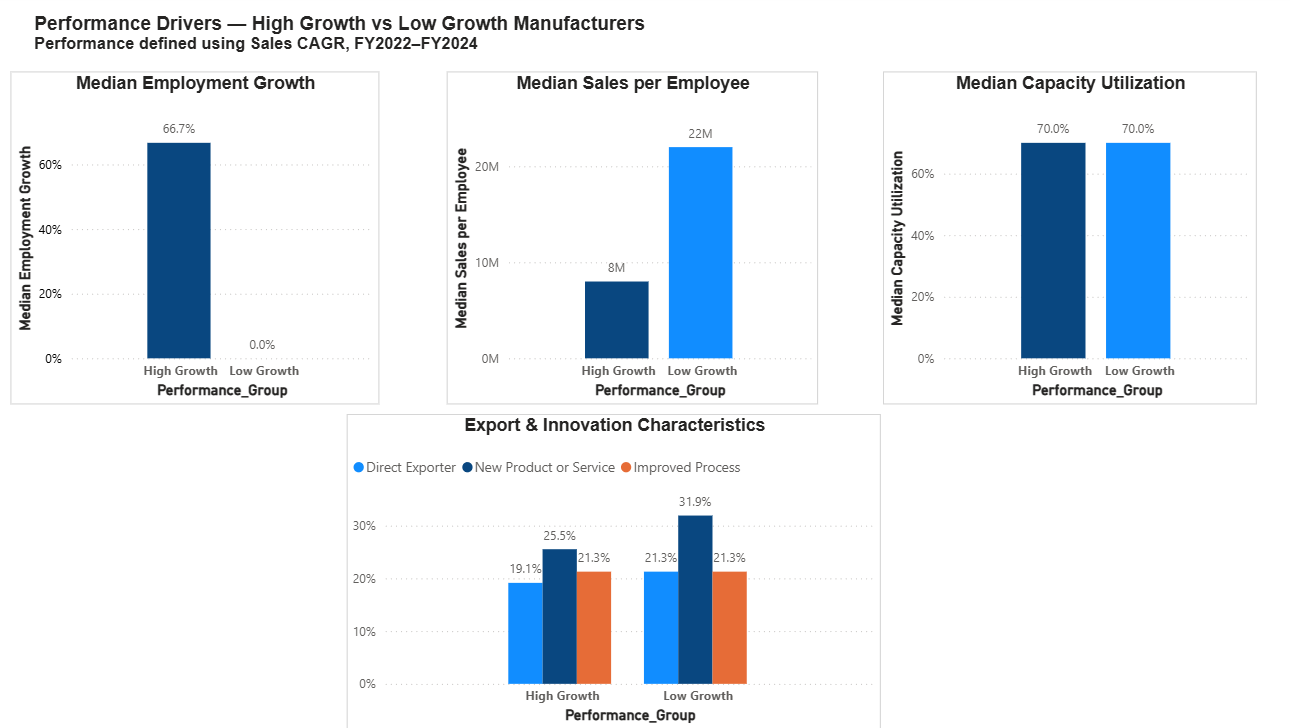

Layout of this report page (visuals, bound fields, positions):
{"tool":"powerbi","page":{"name":"Performance Drivers","canvas":[1280,720],"ordinal":1},"visuals":[{"type":"slicer","fields":{"Values":["Manufacturing.Region"]},"box":[747.1,11.7,160.8,63.6],"z":0,"group":"g1"},{"type":"textbox","box":[31.1,13,620,62.3],"z":0},{"type":"slicer","fields":{"Values":["Manufacturing.Size_Category"]},"box":[906.7,11.8,149.2,63.6],"z":1000,"group":"g1"},{"type":"clusteredColumnChart","title":"Median Employment Growth","fields":{"Category":["Manufacturing.Performance_Group"],"Y":["Measure Table.Median Employment Growth"]},"box":[11.7,75.2,360.6,325.6],"z":1000},{"type":"slicer","fields":{"Values":["Manufacturing.Manufacturing_Subsector"]},"box":[1048.9,12.1,214.6,62.7],"z":2000,"group":"g1"},{"type":"clusteredColumnChart","title":"Median Sales per Employee","fields":{"Category":["Manufacturing.Performance_Group"],"Y":["Measure Table.Median Sales per Employee"]},"box":[438.4,75.2,363.2,325.6],"z":2000},{"type":"clusteredColumnChart","title":"Median Capacity Utilization","fields":{"Category":["Manufacturing.Performance_Group"],"Y":["Measure Table.Median Capacity Utilization"]},"box":[865.2,75.2,365.8,325.6],"z":3000},{"type":"clusteredColumnChart","title":"Export & Innovation Characteristics","fields":{"Category":["Manufacturing.Performance_Group"],"Y":["Measure Table.Direct Exporter Rate","Measure Table.New Product or Service Rate","Measure Table.Improved Process Rate"]},"box":[11.7,411.2,522.7,308.7],"z":4000},{"type":"group","id":"g1","title":"Group 1","box":[747.1,11.7,516.3,63.6],"z":5000},{"type":"textbox","box":[564.9,461,698.2,103.9],"z":6000}]}

Visuals, with their boxes in screenshot pixels (x1, y1, x2, y2), scaled from the page's 1280x720 canvas onto the 1290x728 screenshot:
slicer - Manufacturing.Region: BBox(753, 12, 915, 76)
textbox: BBox(31, 13, 656, 76)
slicer - Manufacturing.Size_Category: BBox(914, 12, 1064, 76)
"Median Employment Growth" clusteredColumnChart: BBox(12, 76, 375, 405)
slicer - Manufacturing.Manufacturing_Subsector: BBox(1057, 12, 1273, 76)
"Median Sales per Employee" clusteredColumnChart: BBox(442, 76, 808, 405)
"Median Capacity Utilization" clusteredColumnChart: BBox(872, 76, 1241, 405)
"Export & Innovation Characteristics" clusteredColumnChart: BBox(12, 416, 539, 727)
"Group 1" group: BBox(753, 12, 1273, 76)
textbox: BBox(569, 466, 1273, 571)
